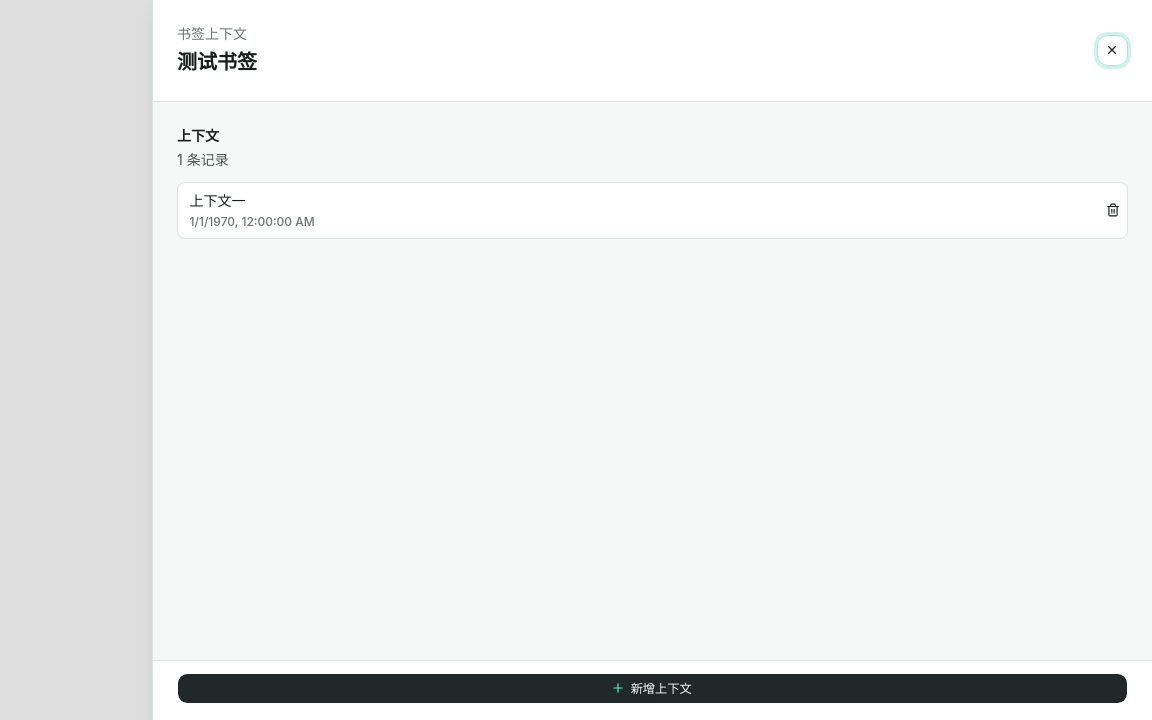
Test: ContextList（T6 Semi List 迁移） › 确认删除后刷新书签并更新列表与计数
expect the button with aria-label "编辑上下文 上下文一" is shown: met, box left=178, top=183, right=1091, bottom=238
Click the button named "删除上下文 上下文一". click: coordinates (1113, 210)
box: left=1099, top=196, right=1127, bottom=224
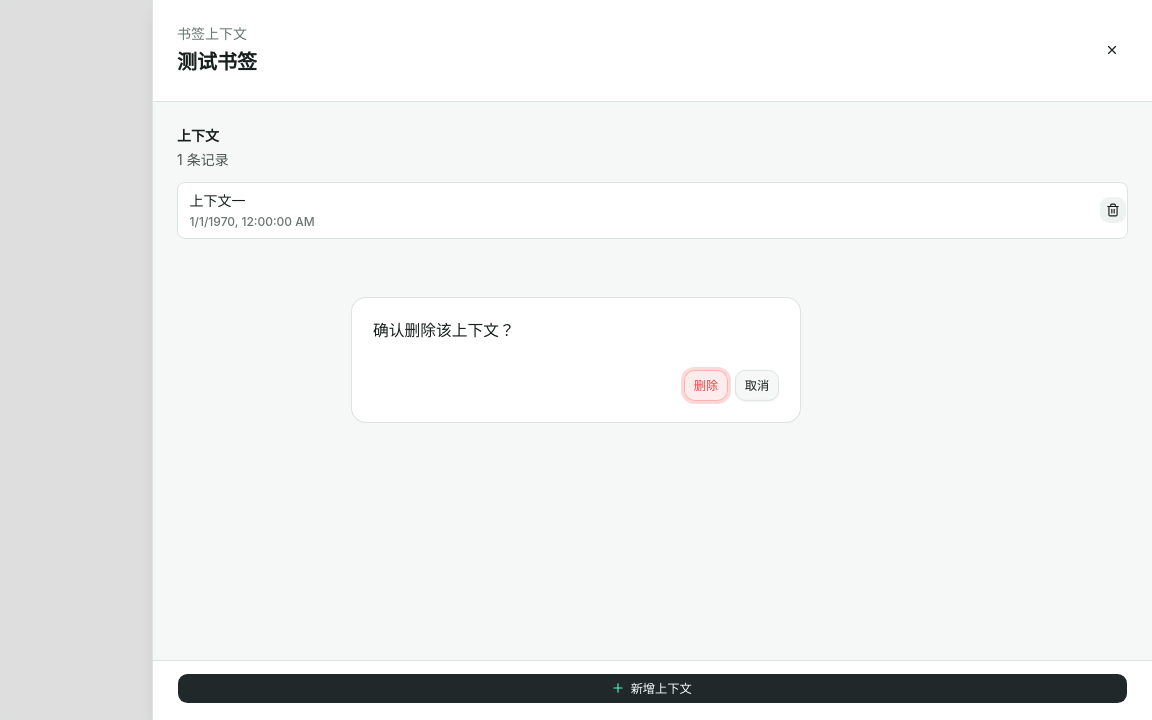
Click the button "删除". click: coordinates (706, 385)
box: left=684, top=370, right=728, bottom=401
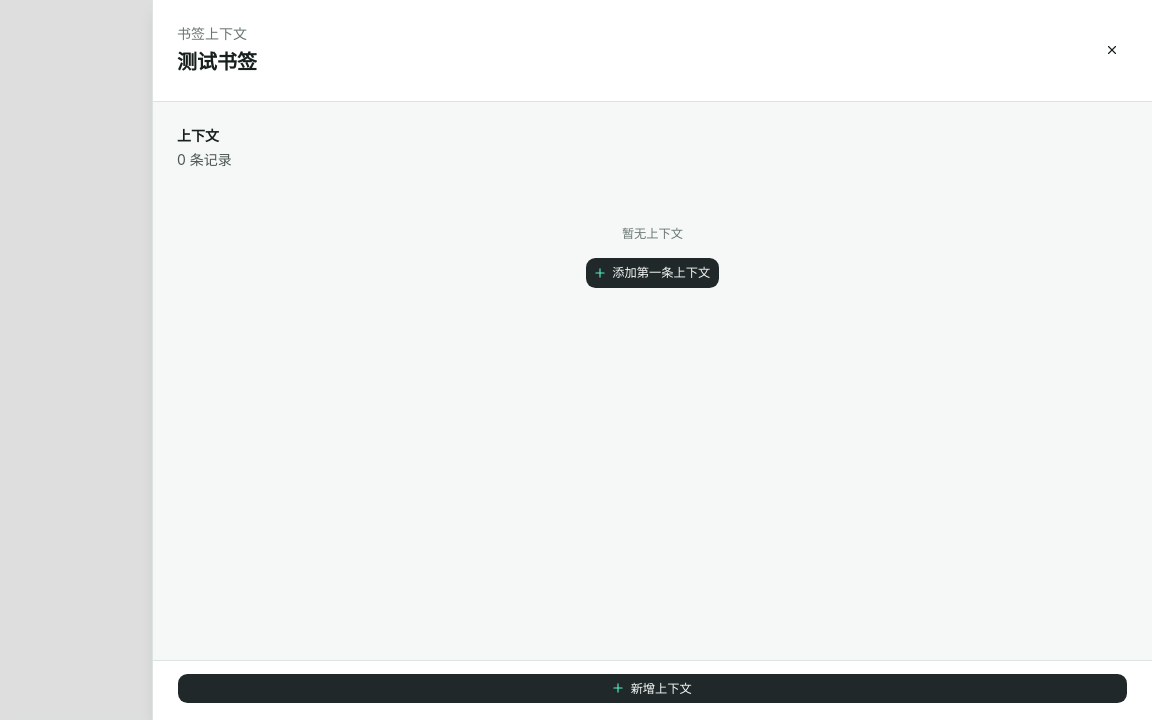
expect the text "0 条记录" is shown: met, box left=177, top=151, right=232, bottom=168
